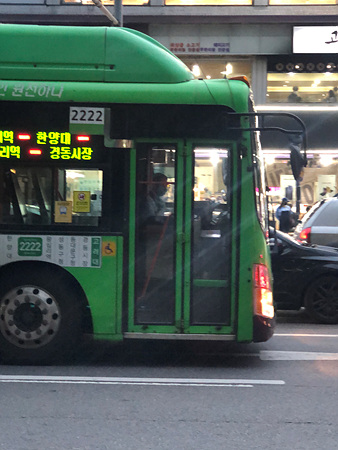entrance: (126, 134, 242, 344)
